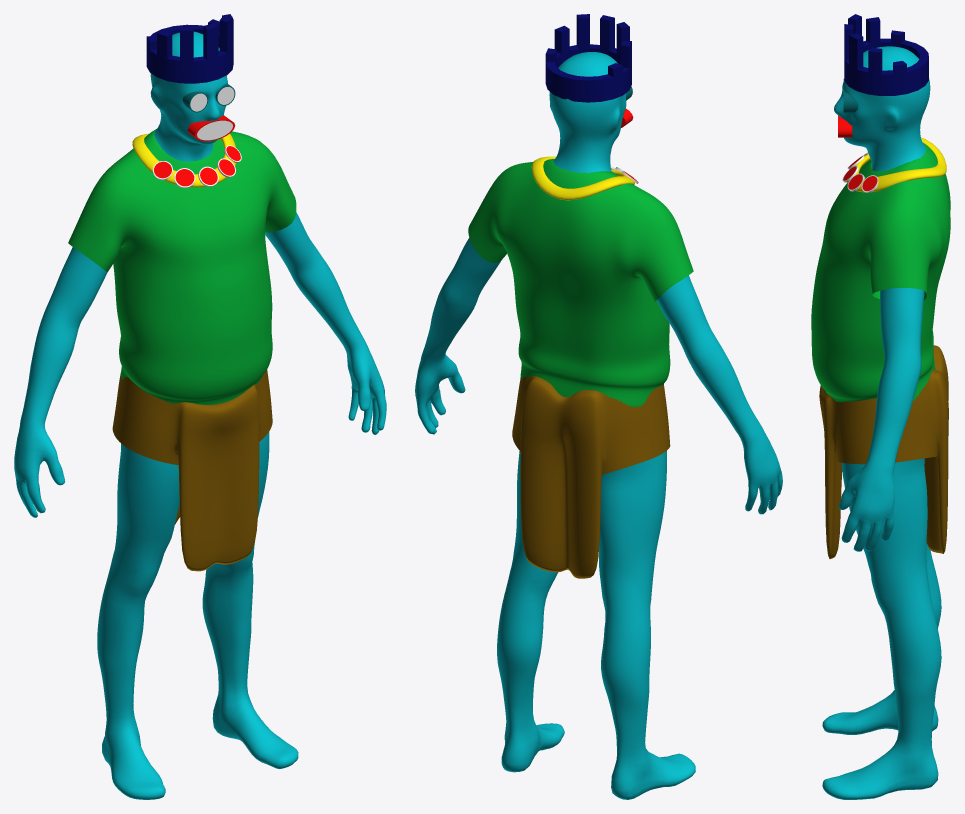
File: Tlaloc.fbx
The picture shows the model from 3 angles, left to right: view 1: azimuth 30°, elevation 25°; view 2: azimuth 150°, elevation 25°; view 3: azimuth 270°, elevation 25°; orthographic projection. The views are drawn at different scales.
Parts seen in each view (by area): view 1: Character2; view 2: Character2; view 3: Character2.
Part boxes in pixels (left/top/right/bottom): Character2: left=14, top=14, right=386, bottom=799; Character2: left=415, top=14, right=782, bottom=799; Character2: left=811, top=14, right=950, bottom=799.
Bounding box in the file's own units: 95.48 × 189 × 32.38.
